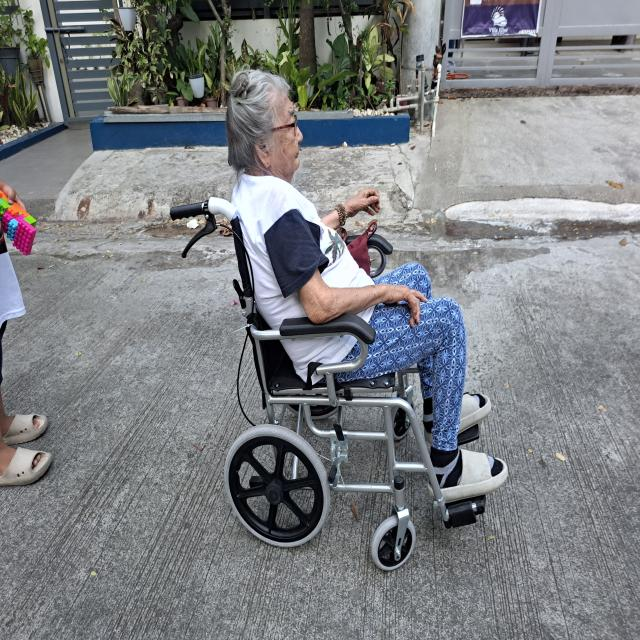wheelchairs: (165, 185, 492, 575)
